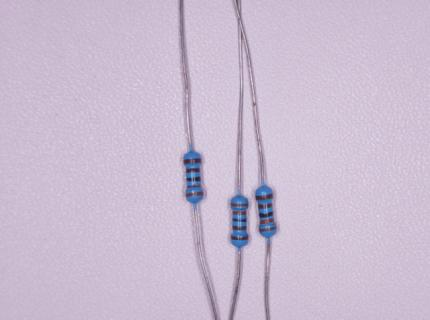Black band: (259, 211, 274, 218), (186, 177, 201, 181), (232, 218, 247, 222)
Brown band: (255, 193, 274, 200), (184, 159, 202, 164), (258, 203, 273, 209), (231, 235, 248, 240), (232, 225, 247, 230), (186, 168, 200, 173)
Orange band: (259, 226, 277, 232), (185, 192, 204, 197), (230, 203, 249, 207), (260, 219, 274, 224), (187, 184, 201, 188), (233, 211, 246, 215)
